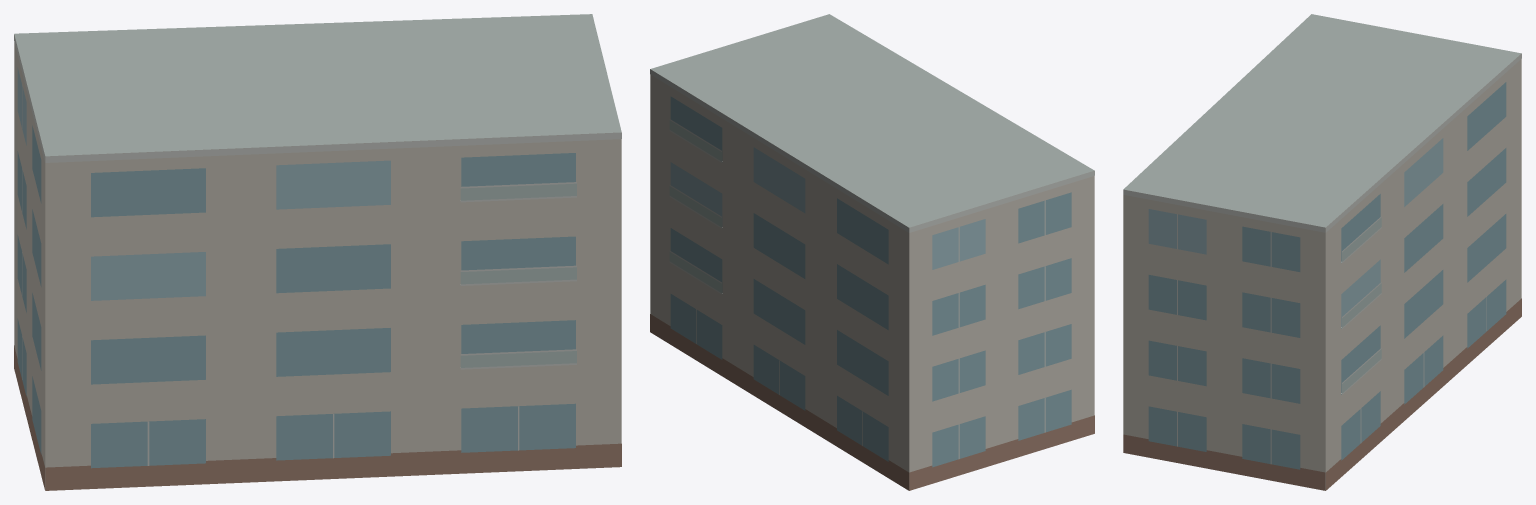
Rendered from survey-upis-32997728.glb.
The picture shows the model from 3 angles, left to right: view 1: azimuth 30°, elevation 25°; view 2: azimuth 150°, elevation 25°; view 3: azimuth 270°, elevation 25°; orthographic projection. The views are drawn at different scales.
Parts seen in each view (by area): view 1: survey-upis-32997728.tmp; view 2: survey-upis-32997728.tmp; view 3: survey-upis-32997728.tmp.
Part boxes in pixels (x1,y1,x2,y2): survey-upis-32997728.tmp: (14, 14, 621, 490); survey-upis-32997728.tmp: (650, 14, 1094, 490); survey-upis-32997728.tmp: (1123, 14, 1521, 490).
Size of the model in its own units: 21.23 by 12.2 by 16.74.
